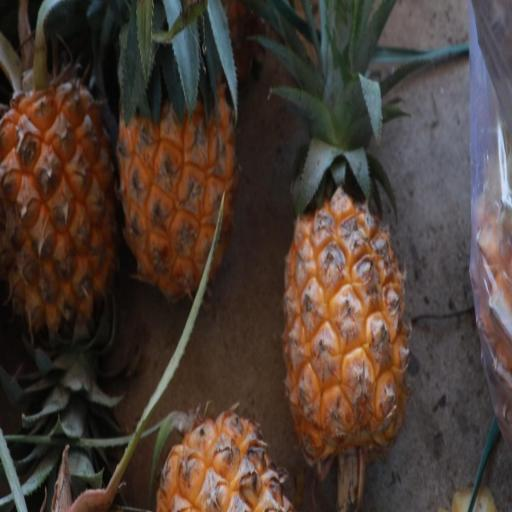Pineapple - v8 v1: (274, 111, 413, 472), (111, 0, 240, 313), (0, 50, 121, 376), (141, 384, 312, 512)
